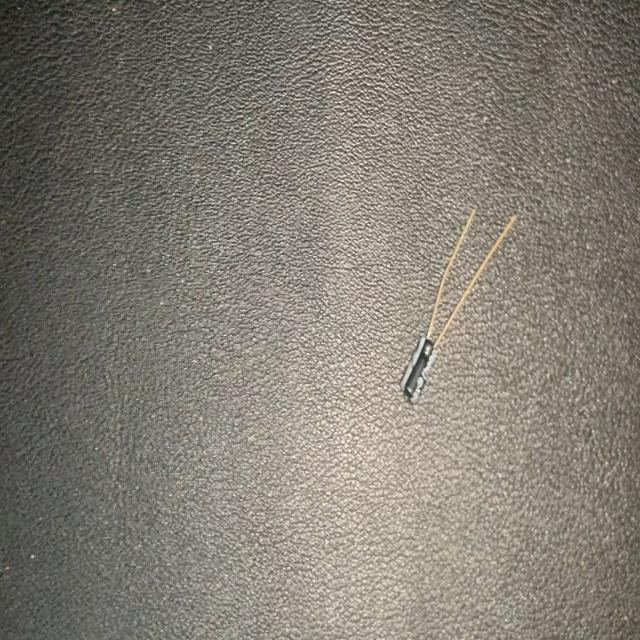capacitor: (398, 204, 520, 412)
